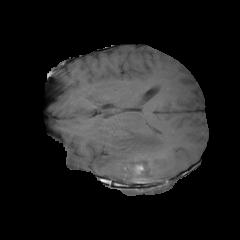glioma: (94, 123, 180, 180)
